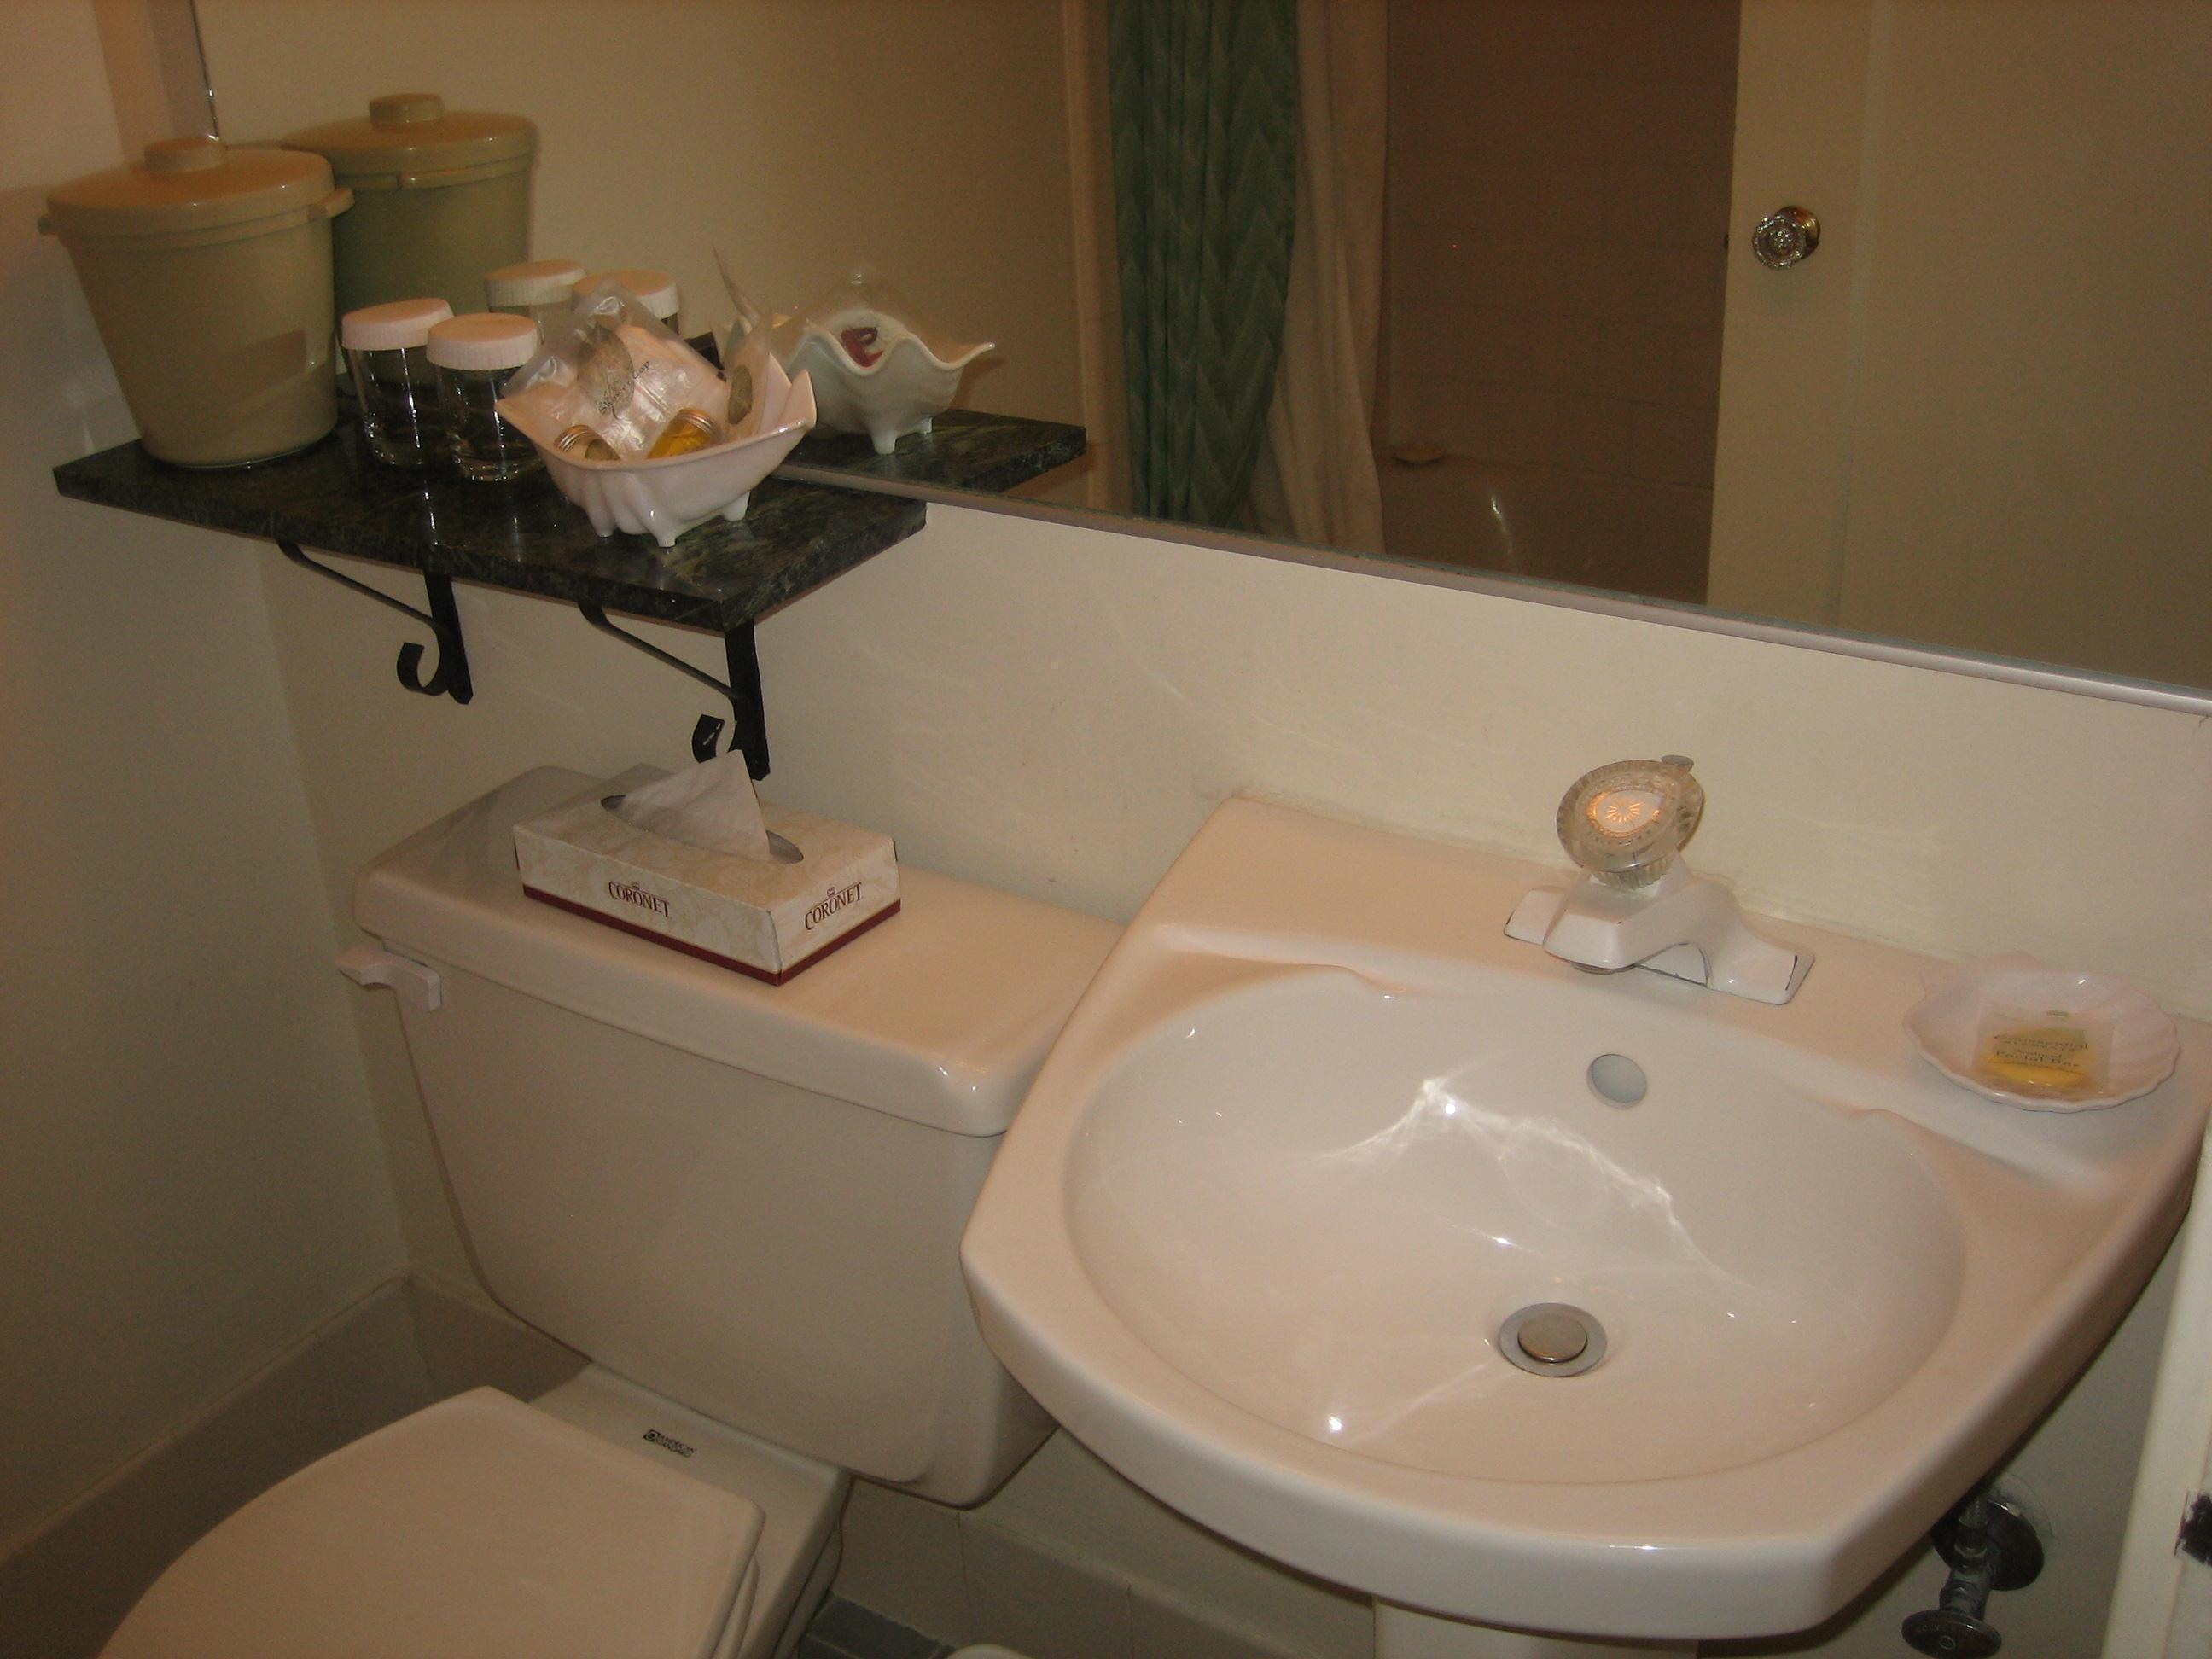Lavamanos: (1022, 753, 2184, 1652)
Sanitario: (111, 770, 1015, 1638)
